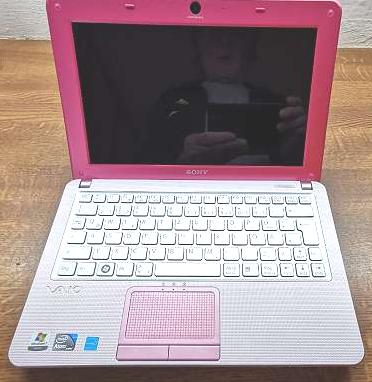0: (234, 203, 249, 215)
1: (80, 202, 96, 215)
2: (97, 201, 113, 214)
3: (114, 202, 130, 214)
4: (132, 202, 147, 215)
5: (149, 202, 164, 214)
6: (165, 203, 181, 215)
7: (183, 203, 199, 215)
8: (200, 203, 215, 215)
9: (217, 203, 232, 215)
a: (88, 229, 104, 243)
accent: (268, 203, 283, 215)
ae: (266, 230, 282, 243)
alt-left: (133, 260, 151, 275)
altgr-right: (223, 263, 240, 277)
b: (167, 246, 184, 260)
c: (130, 246, 147, 260)
comma: (224, 246, 240, 260)
d: (121, 229, 138, 243)
del: (284, 203, 312, 215)
e: (120, 214, 136, 228)
enter: (294, 218, 318, 243)
f: (139, 230, 156, 243)
g: (157, 230, 174, 243)
h: (176, 230, 192, 243)
hash: (284, 230, 300, 244)
i: (208, 215, 223, 229)
j: (194, 230, 210, 243)
k: (212, 230, 228, 243)
keyboard: (48, 188, 334, 284)
l: (230, 230, 246, 243)
m: (204, 246, 221, 260)
minus: (260, 246, 277, 260)
n: (186, 246, 203, 260)
o: (225, 216, 241, 229)
oe: (248, 230, 264, 243)
p: (243, 216, 258, 229)
plus: (278, 217, 293, 229)
point: (242, 247, 258, 260)
q: (86, 215, 103, 229)
r: (138, 215, 154, 228)
s: (104, 229, 120, 243)
shift-left: (59, 242, 90, 258)
shift-lock: (69, 230, 86, 244)
shift-right: (279, 247, 292, 261)
space: (155, 262, 220, 277)
ss: (252, 203, 266, 215)
strg-left: (57, 260, 75, 275)
strg-right: (261, 263, 278, 277)
t: (155, 215, 171, 228)
tab: (71, 215, 85, 229)
u: (190, 216, 206, 229)
ue: (260, 216, 276, 229)
v: (149, 246, 166, 260)
w: (102, 214, 119, 228)
x: (109, 244, 126, 258)
y: (90, 244, 108, 258)
z: (172, 216, 189, 229)
